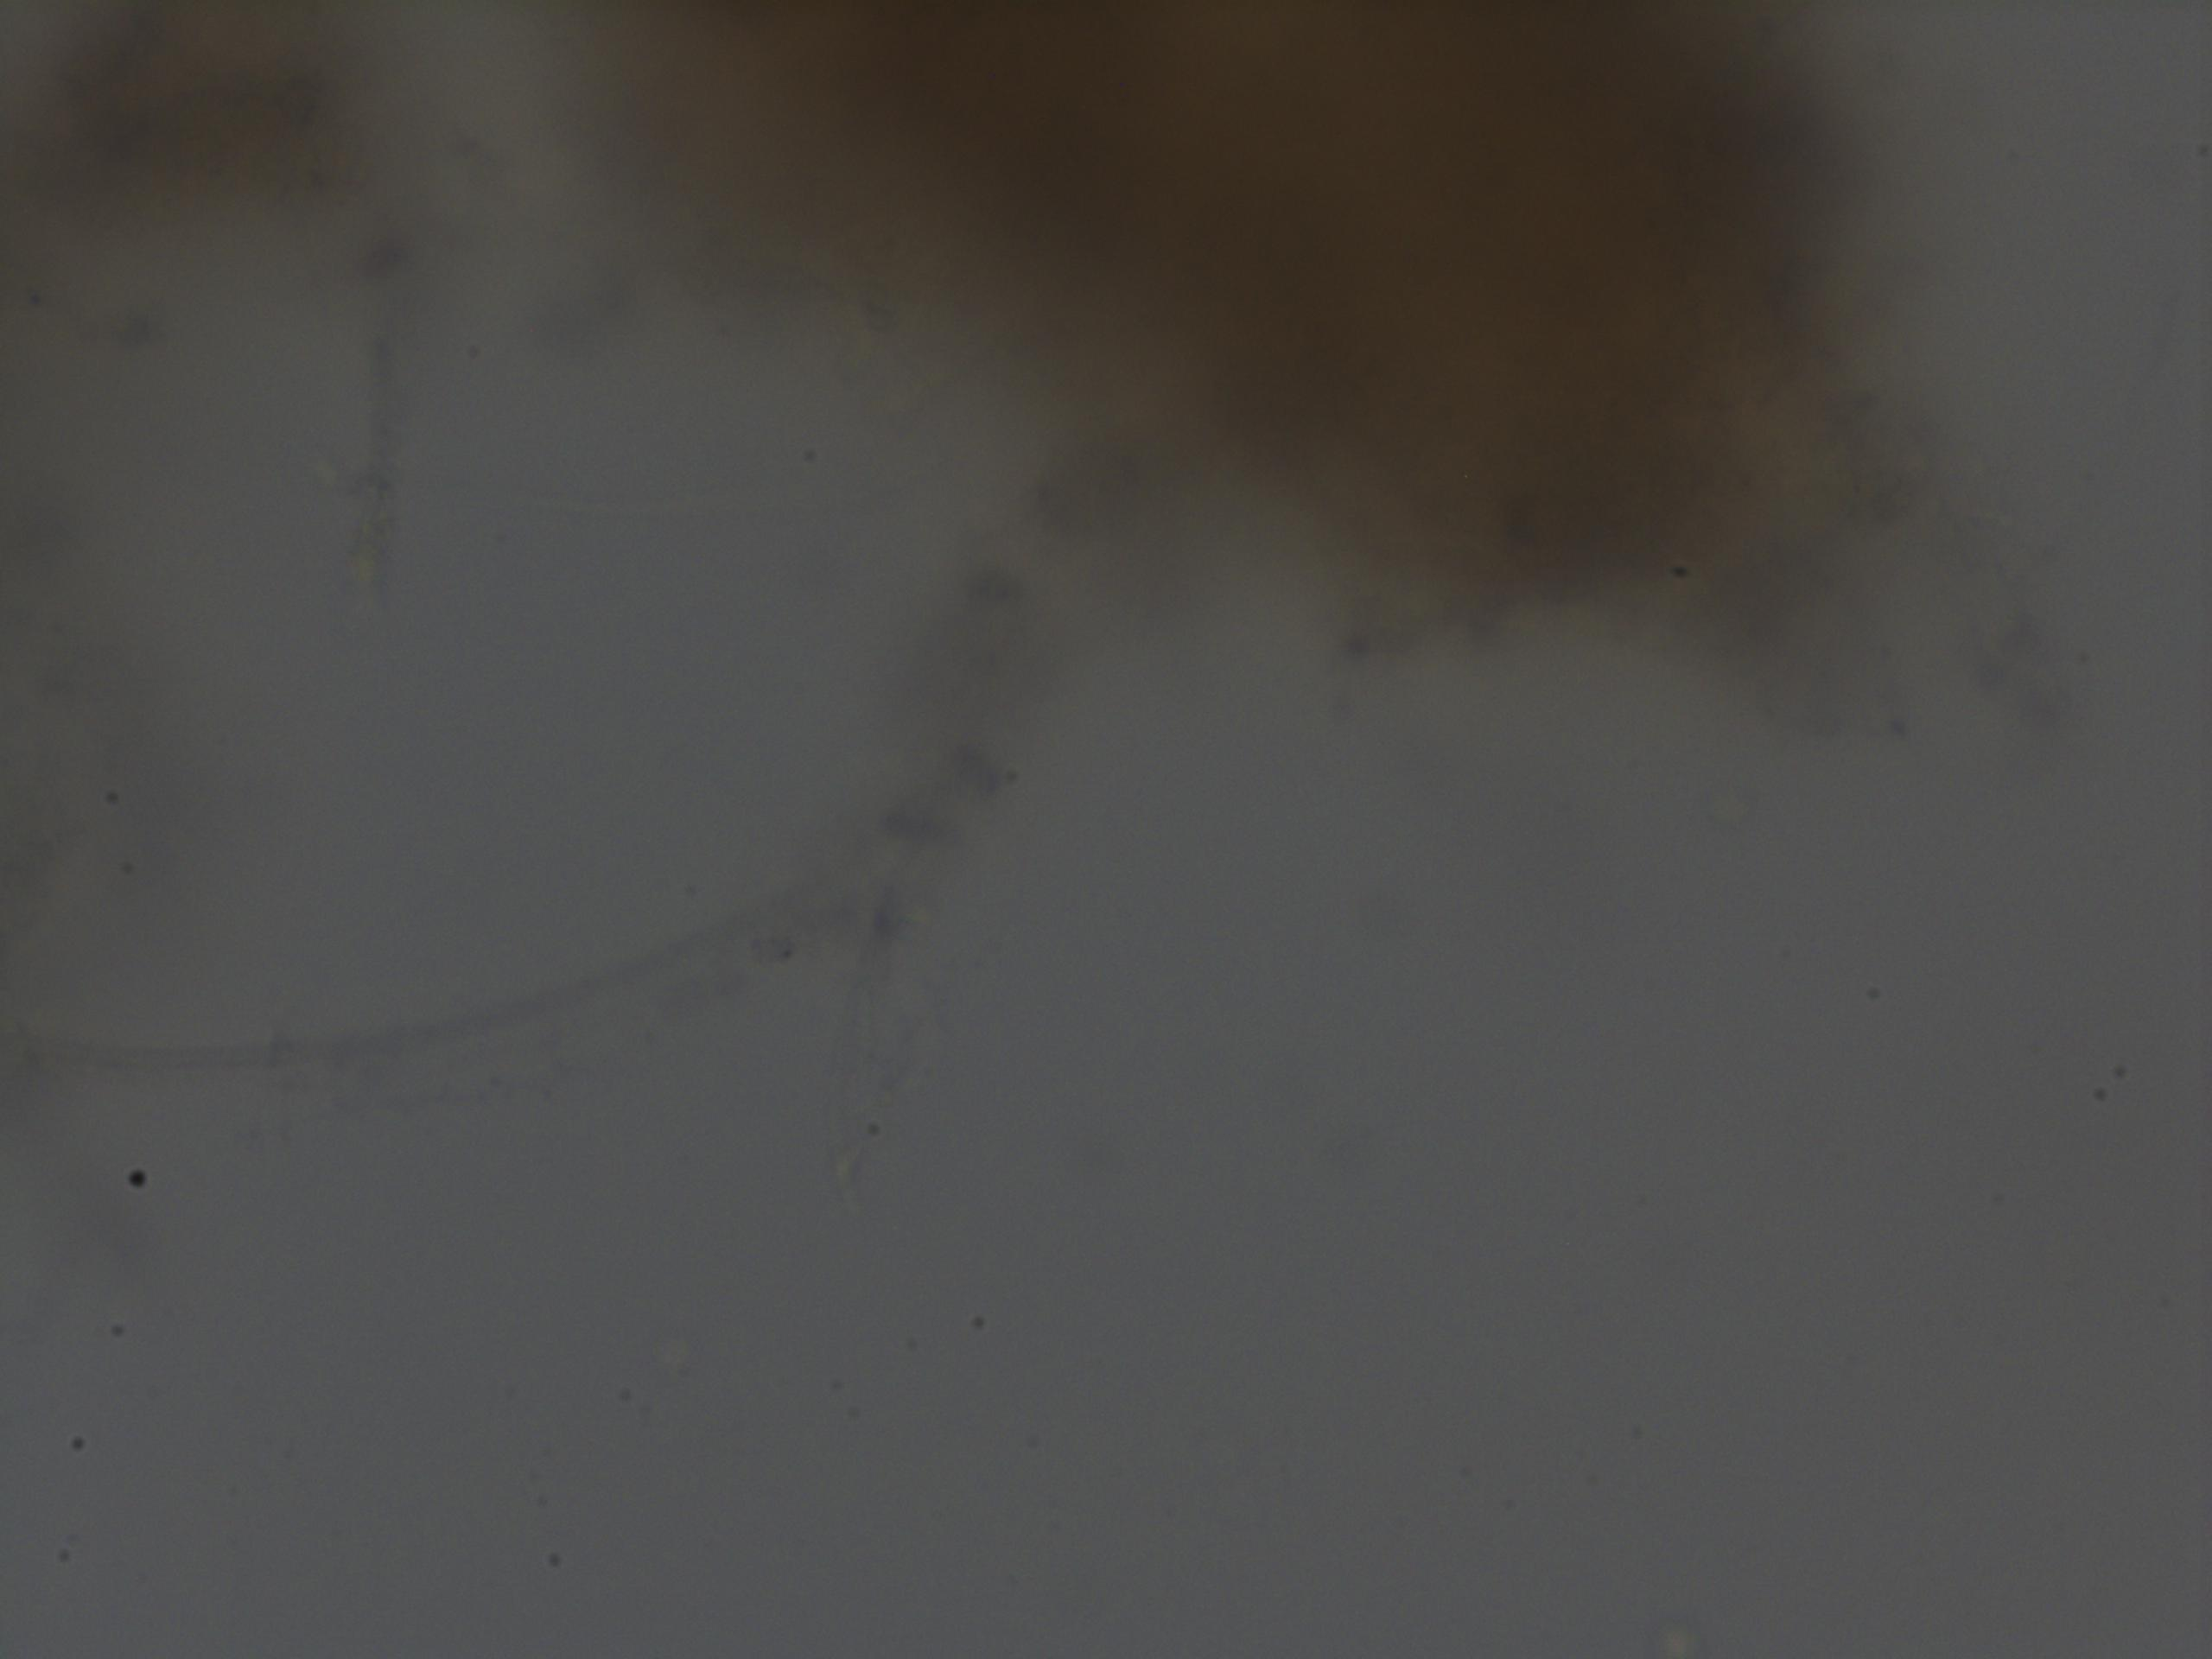filament: (0, 772, 1021, 1171)
